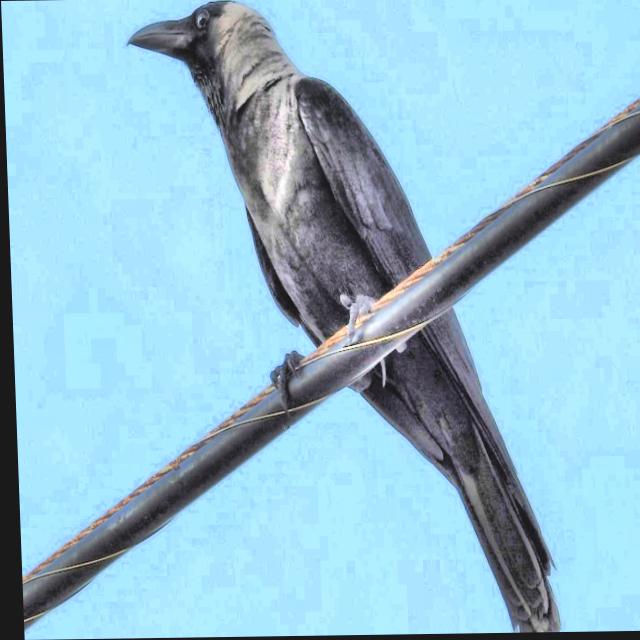crow: (102, 0, 576, 639)
